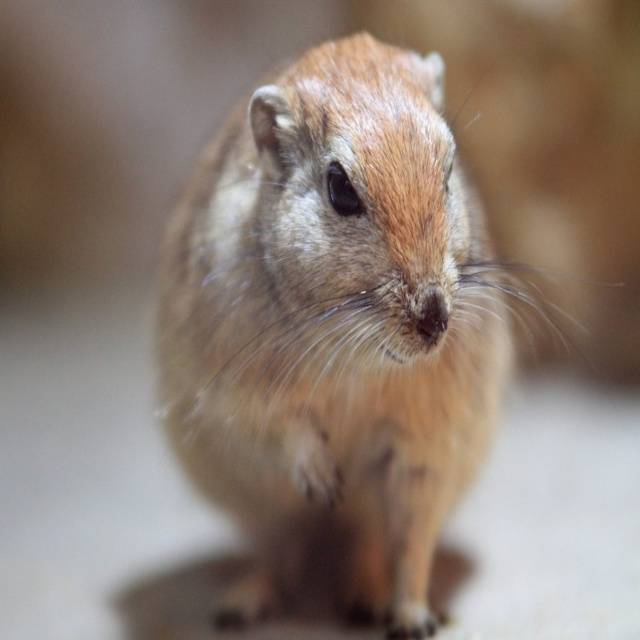Squirrel: (145, 30, 625, 640)
